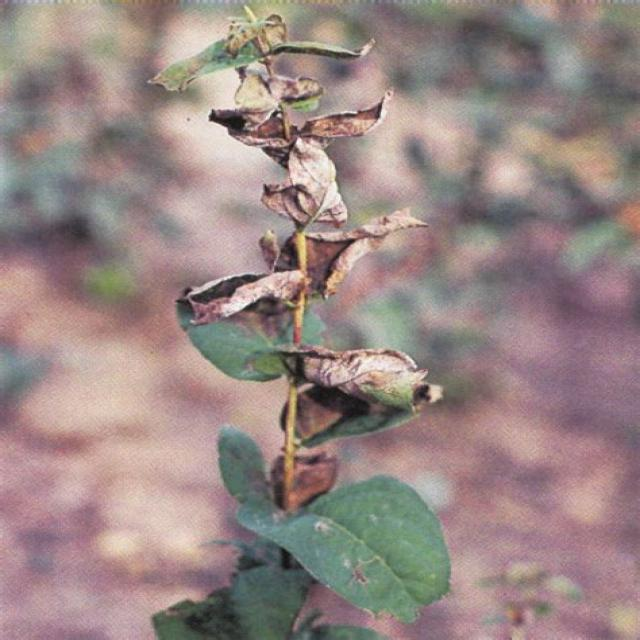blight: (174, 255, 310, 388)
